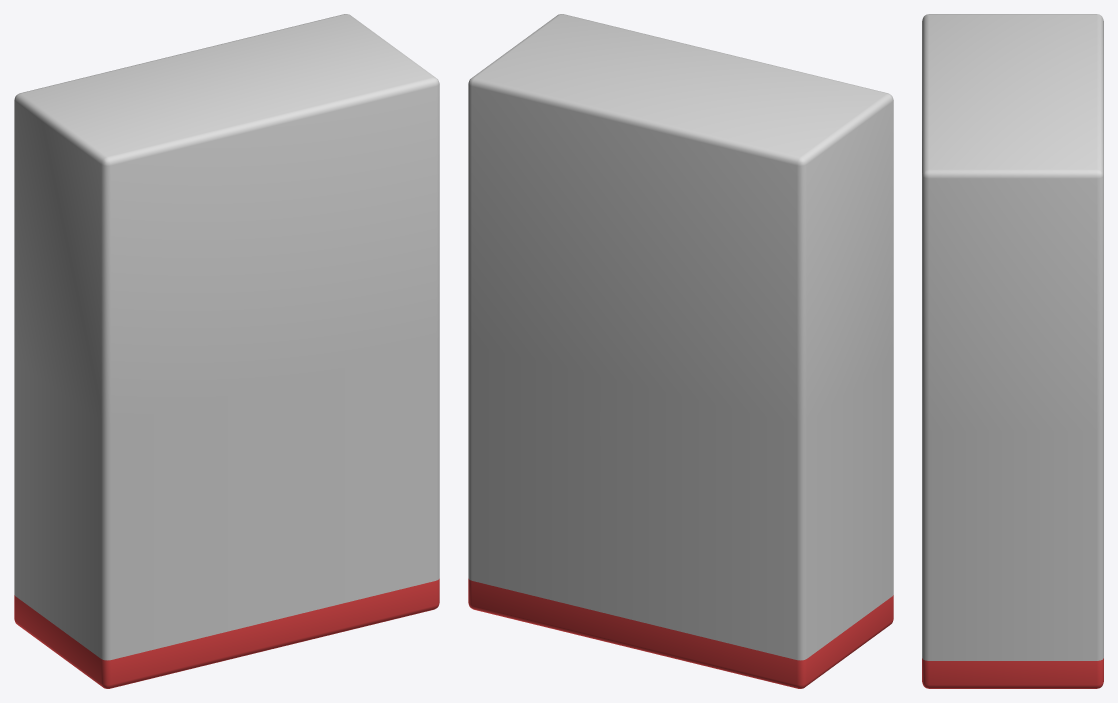
The model's file is Map_Popcorn_Generator.fbx.
3 views of the same model, side by side, from view 1: azimuth 30°, elevation 25°; view 2: azimuth 150°, elevation 25°; view 3: azimuth 270°, elevation 25° (orthographic). The views are drawn at different scales.
Visible parts, largest first — view 1: Popcorn_Generator; view 2: Popcorn_Generator; view 3: Popcorn_Generator.
Boxes of the visible parts, x1,y1,x2,y2 form: Popcorn_Generator: [14, 14, 439, 688]; Popcorn_Generator: [468, 14, 893, 688]; Popcorn_Generator: [922, 14, 1103, 688].
Size of the model in its own units: 1626 by 2449 by 777.
